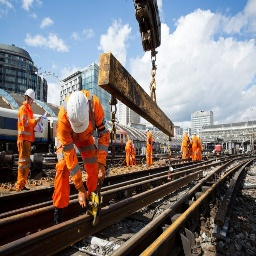helmet: (66, 91, 91, 134), (24, 84, 36, 103), (146, 127, 150, 134)
person: (53, 90, 110, 223), (16, 82, 39, 189), (143, 125, 155, 172), (179, 126, 190, 166), (124, 137, 134, 169)
vest: (17, 106, 35, 139), (146, 134, 153, 147), (126, 140, 132, 152)
